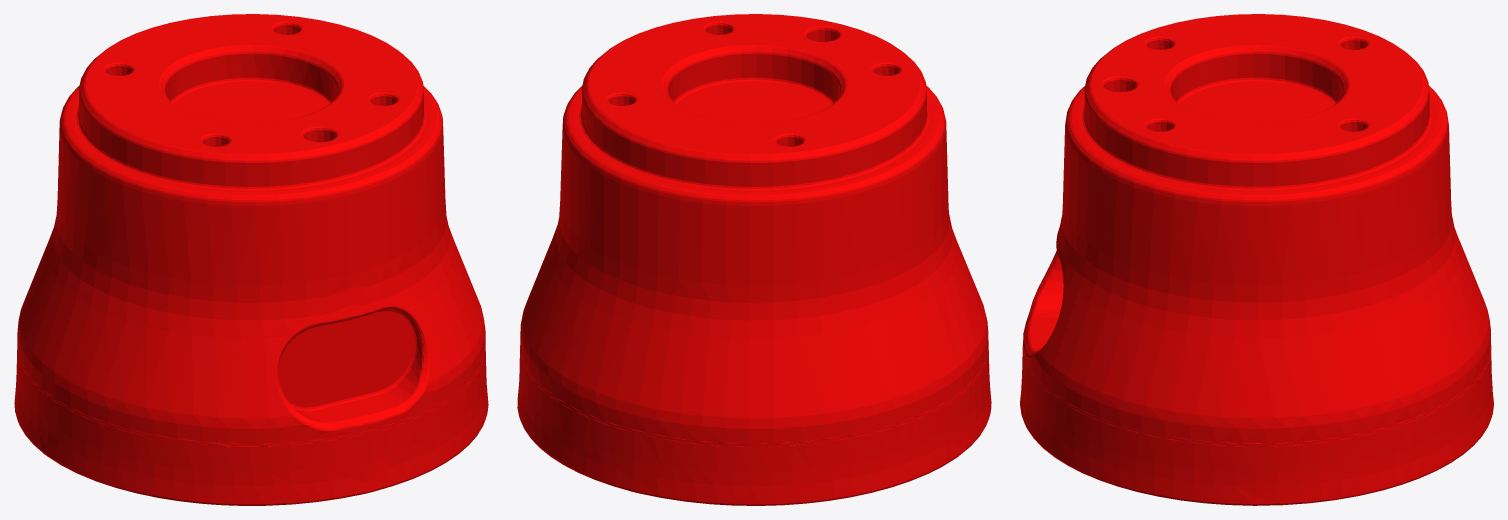
The picture shows the model from 3 angles, left to right: view 1: azimuth 30°, elevation 25°; view 2: azimuth 150°, elevation 25°; view 3: azimuth 270°, elevation 25°; orthographic projection.
Visible parts, largest first — view 1: A0912_6_1; view 2: A0912_6_1; view 3: A0912_6_1.
Boxes of the visible parts, box(x1,y1,x2,y2) form: A0912_6_1: box(14, 14, 488, 505); A0912_6_1: box(517, 14, 991, 505); A0912_6_1: box(1020, 14, 1493, 505).
Bounding box in the file's own units: 86.55 × 86.55 × 65.
